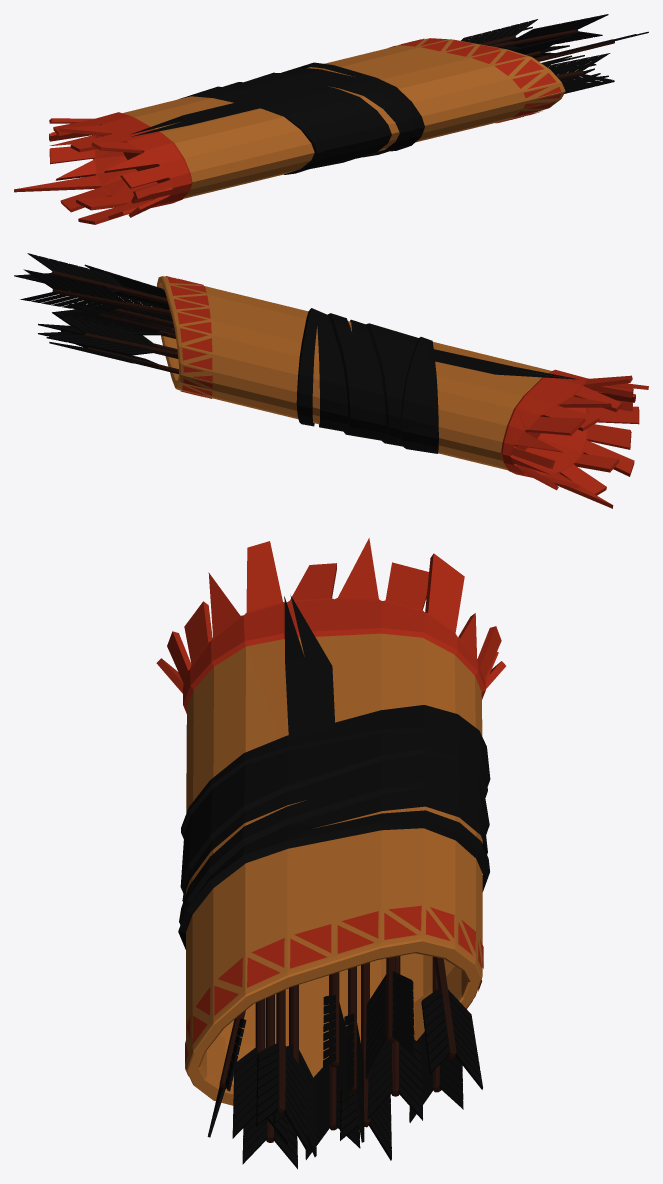
File: kovchak.obj
3 views of the same model, one above another, from view 1: azimuth 30°, elevation 25°; view 2: azimuth 150°, elevation 25°; view 3: azimuth 270°, elevation 25° (orthographic). The views are drawn at different scales.
Visible parts, largest first — view 1: Cube.002; view 2: Cube.002; view 3: Cube.002.
Part boxes in pixels (left/top/right/bottom): Cube.002: left=14, top=14, right=648, bottom=224; Cube.002: left=14, top=253, right=648, bottom=508; Cube.002: left=156, top=538, right=505, bottom=1169.
Bounding box in the file's own units: 9.1 × 1.28 × 2.36.
